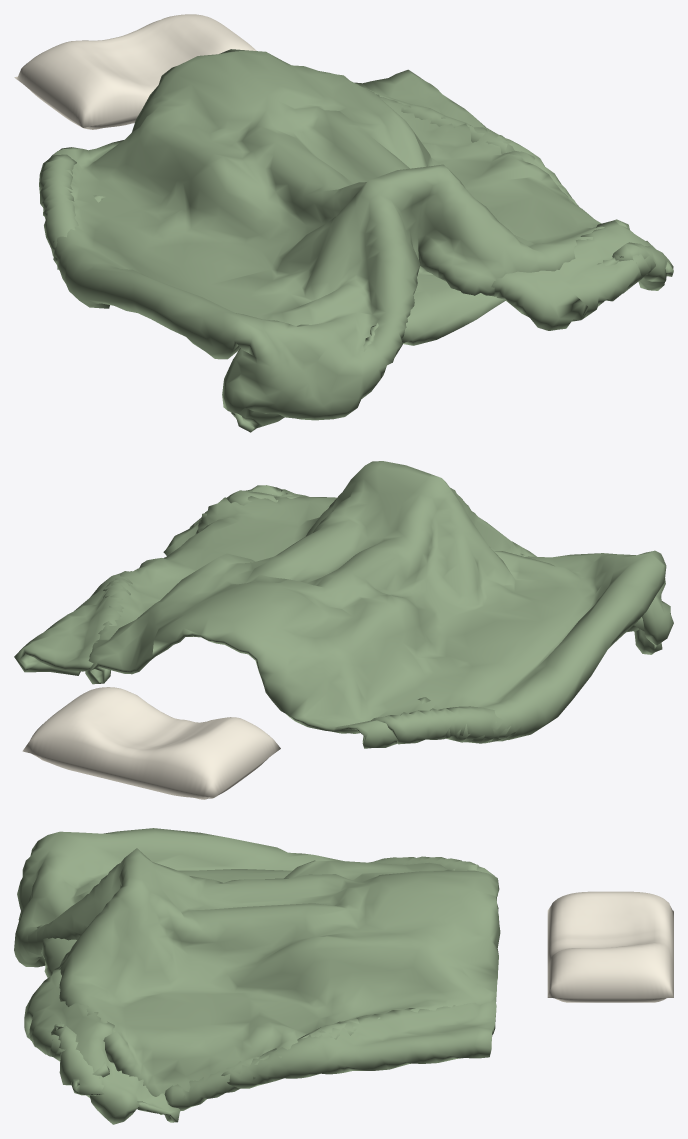
The model's file is bedding-simpsons.glb.
3 renders of one model, top to bottom at view 1: azimuth 30°, elevation 25°; view 2: azimuth 150°, elevation 25°; view 3: azimuth 270°, elevation 25°, orthographic. The views are drawn at different scales.
Parts seen in each view (by area): view 1: sleep_duvet_simpsons, sleep_pillow_simpsons; view 2: sleep_duvet_simpsons, sleep_pillow_simpsons; view 3: sleep_duvet_simpsons, sleep_pillow_simpsons.
Boxes of the visible parts, <box> form: sleep_duvet_simpsons: <box>39,49,673,432</box>; sleep_pillow_simpsons: <box>14,14,256,129</box>; sleep_duvet_simpsons: <box>14,461,673,748</box>; sleep_pillow_simpsons: <box>22,687,280,799</box>; sleep_duvet_simpsons: <box>14,828,500,1124</box>; sleep_pillow_simpsons: <box>547,891,673,1002</box>.
Bounding box in the file's own units: 1.83 × 0.6212 × 2.3.
